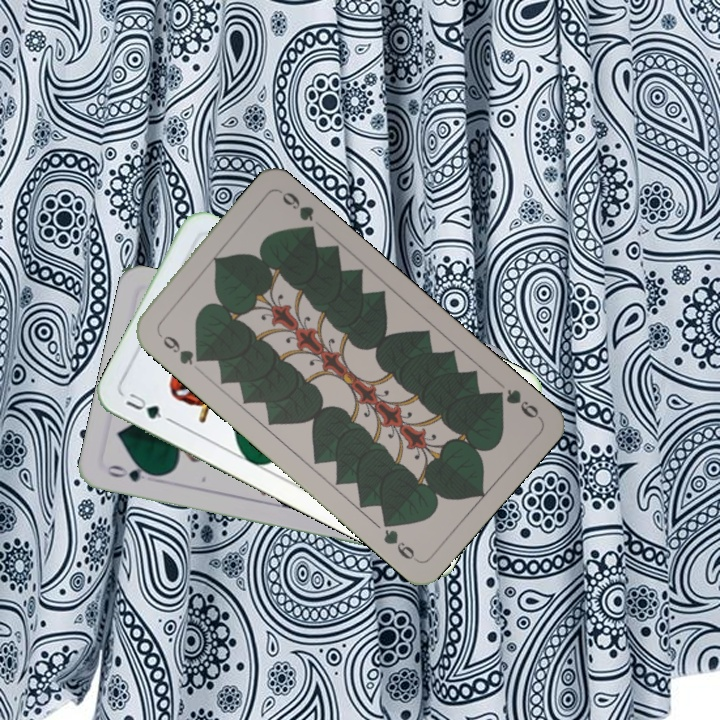G9: (153, 327, 207, 368), (488, 384, 543, 422)
GO: (103, 460, 162, 485)
GU: (121, 388, 174, 425)
